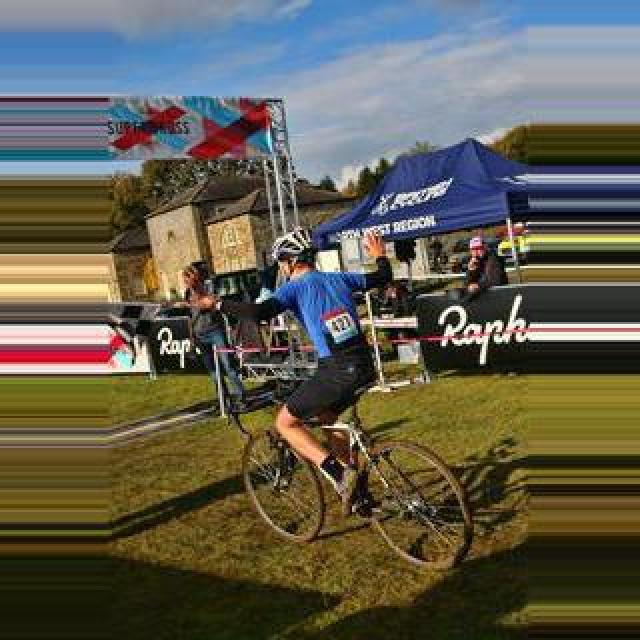MC-Bike: (232, 232, 394, 514), (180, 264, 236, 404), (458, 236, 504, 300)
Person: (237, 382, 475, 574)
